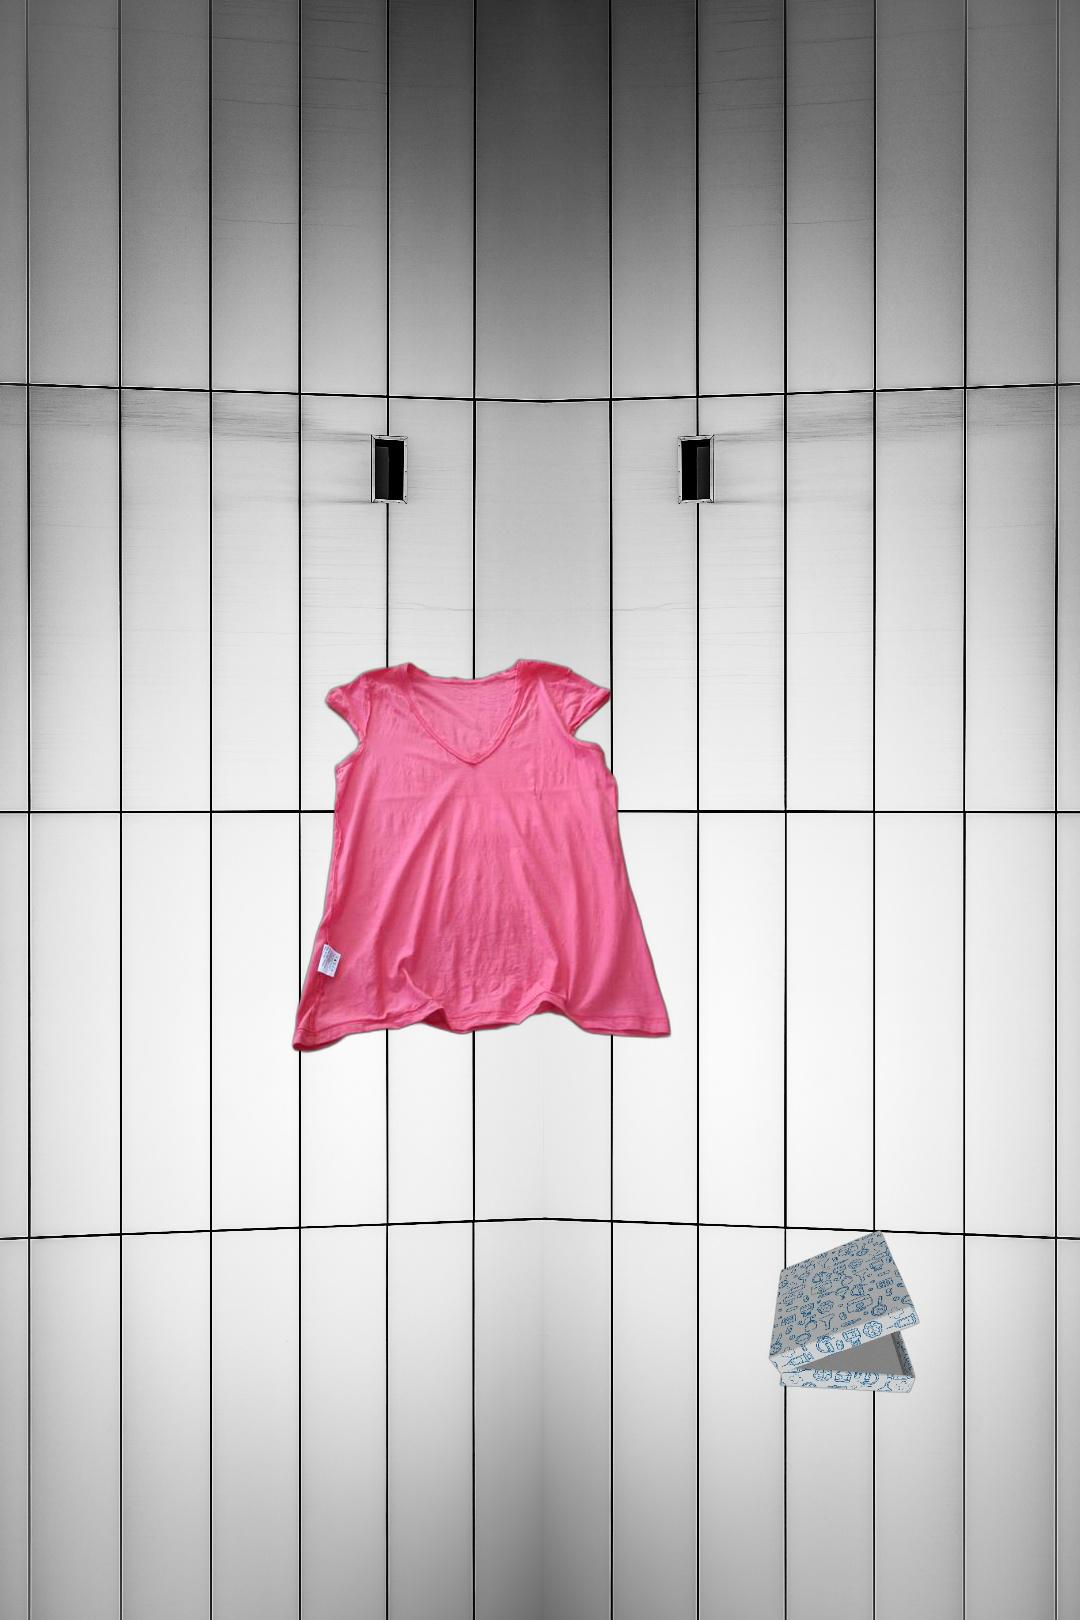clothes: (289, 655, 673, 1057)
trashbox-cardboard: (765, 1229, 922, 1395)
